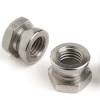Thread: (54, 45, 86, 70), (27, 34, 47, 59)
